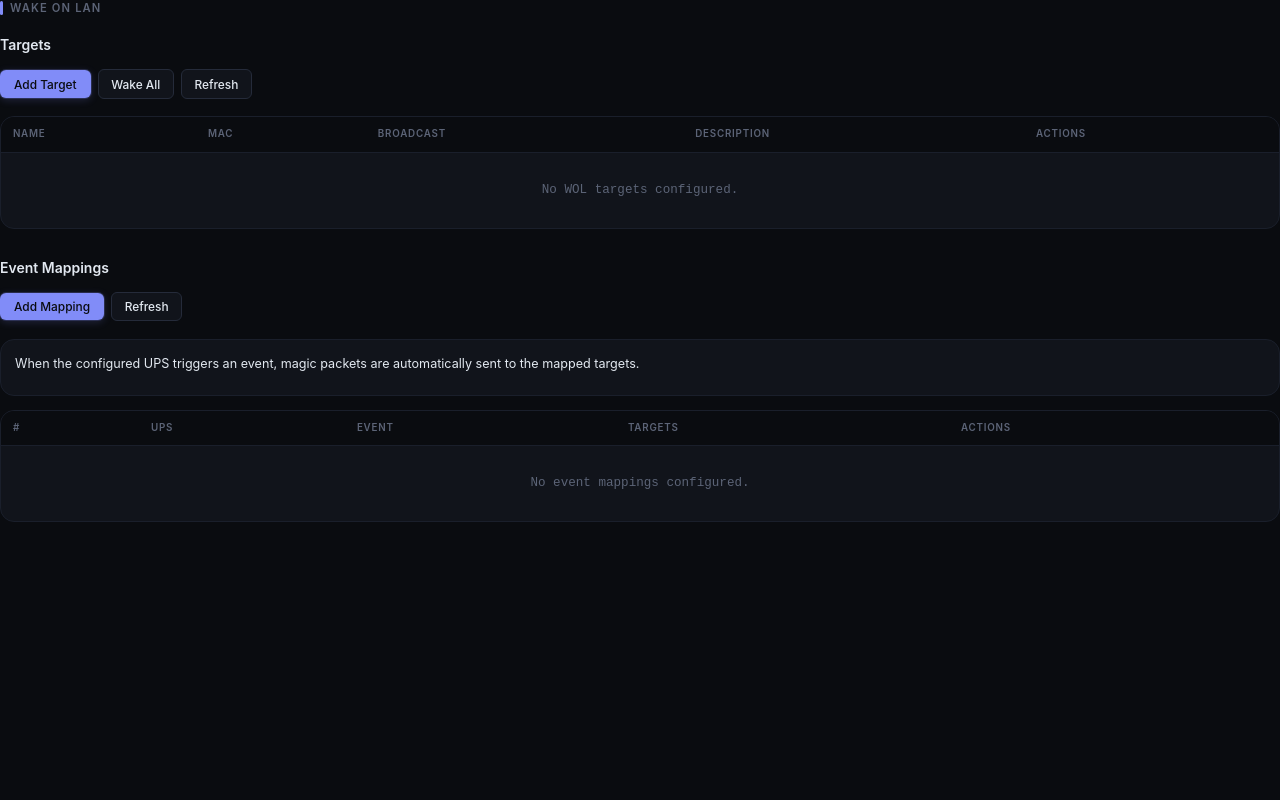
Test case: WakeOnLan › shows validation error when saving with empty Name
The image size is (1280, 800).
Click the button "Add Target": (45, 84) [0, 70, 91, 98]
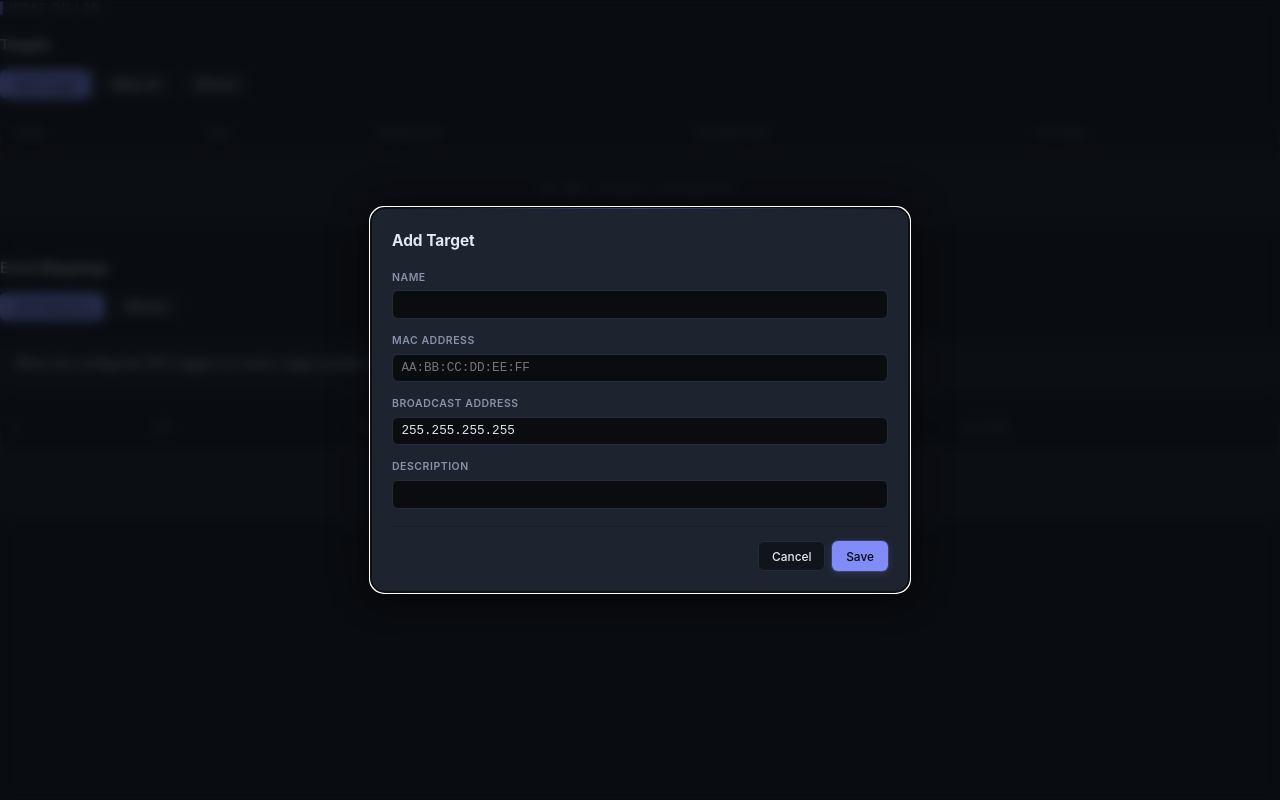
Expected: the heading "Add Target" is shown, [392, 231, 475, 250]
Click the button "Save": (860, 556) [832, 541, 888, 571]
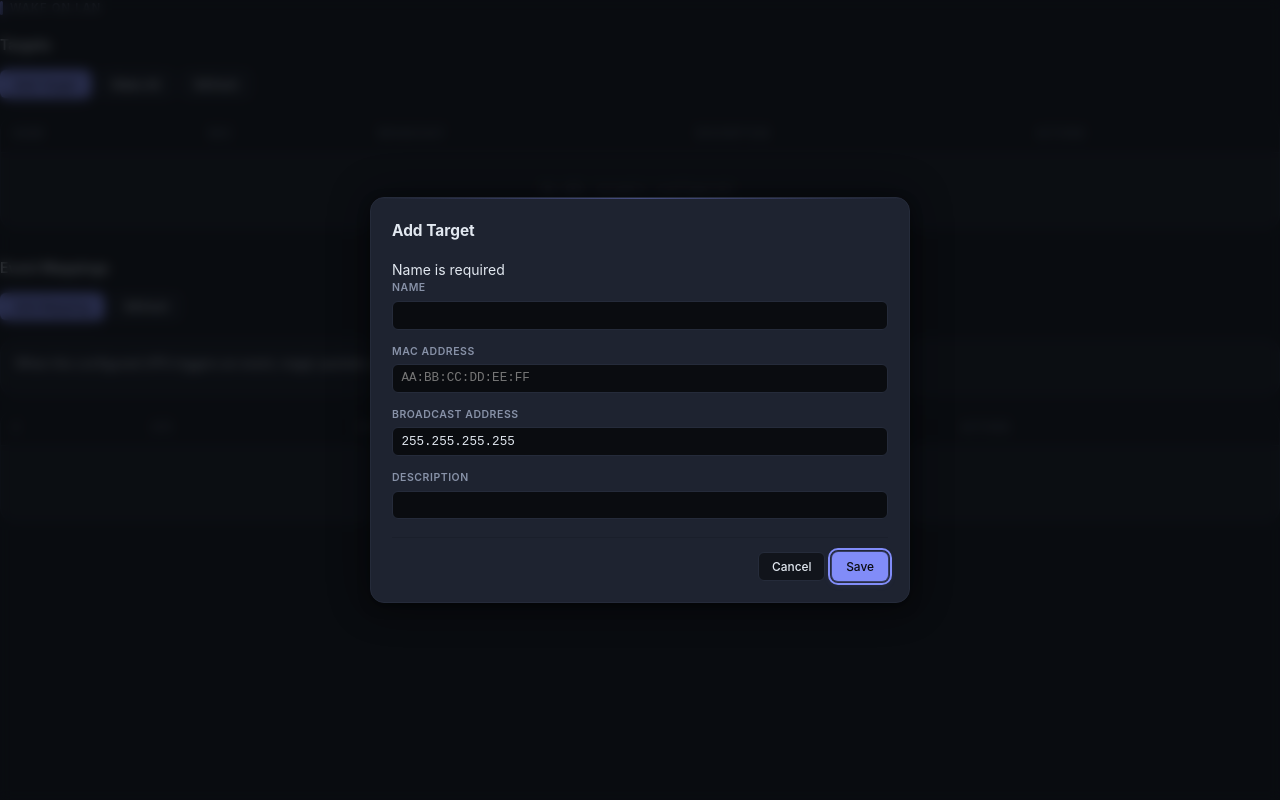
Expected: the text "Name is required" is shown, [392, 261, 505, 278]
